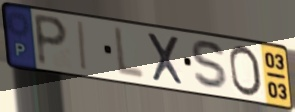I: (77, 20, 90, 74)
L: (113, 25, 147, 83)
O: (227, 44, 264, 99)
P: (32, 11, 71, 70)
S: (189, 38, 233, 93)
X: (144, 30, 186, 88)
